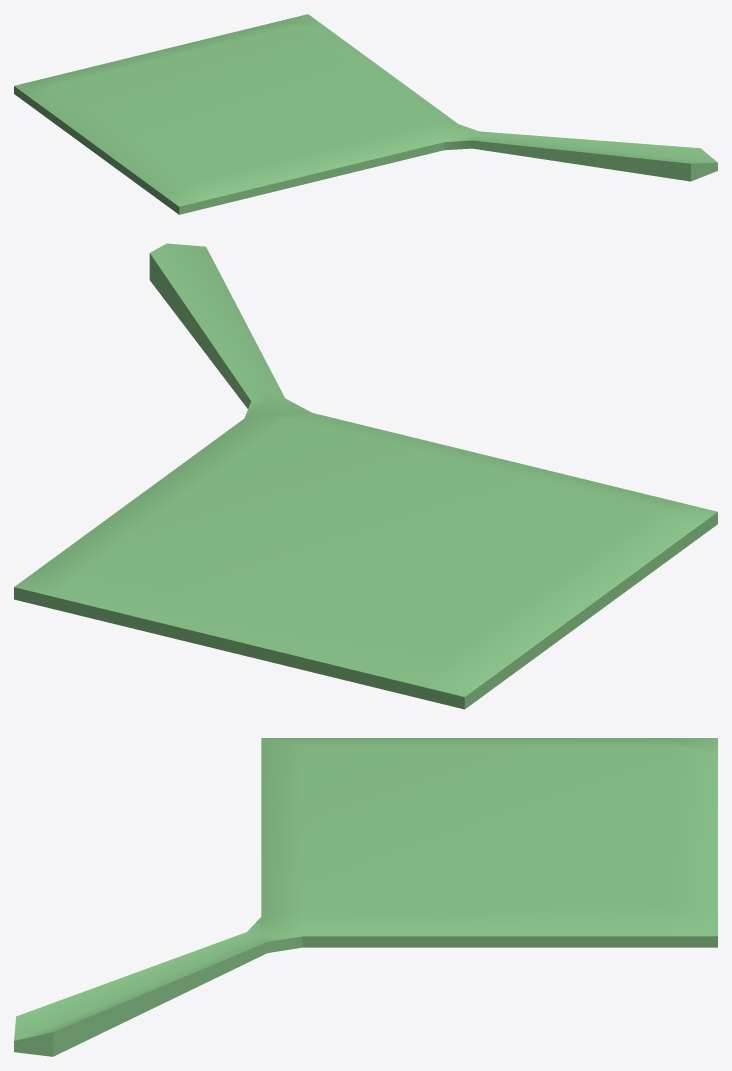
The model's file is vfx_Leaf_mesh.fbx.
The picture shows the model from 3 angles, top to bottom: view 1: azimuth 30°, elevation 25°; view 2: azimuth 150°, elevation 25°; view 3: azimuth 270°, elevation 25°; orthographic projection. The views are drawn at different scales.
Visible parts, largest first — view 1: leafMesh; view 2: leafMesh; view 3: leafMesh.
Boxes of the visible parts, x1,y1,x2,y2 form: leafMesh: [14, 14, 717, 214]; leafMesh: [14, 243, 717, 709]; leafMesh: [14, 738, 717, 1056].
Size of the model in its own units: 0.6266 by 0.0293 by 0.6155.
